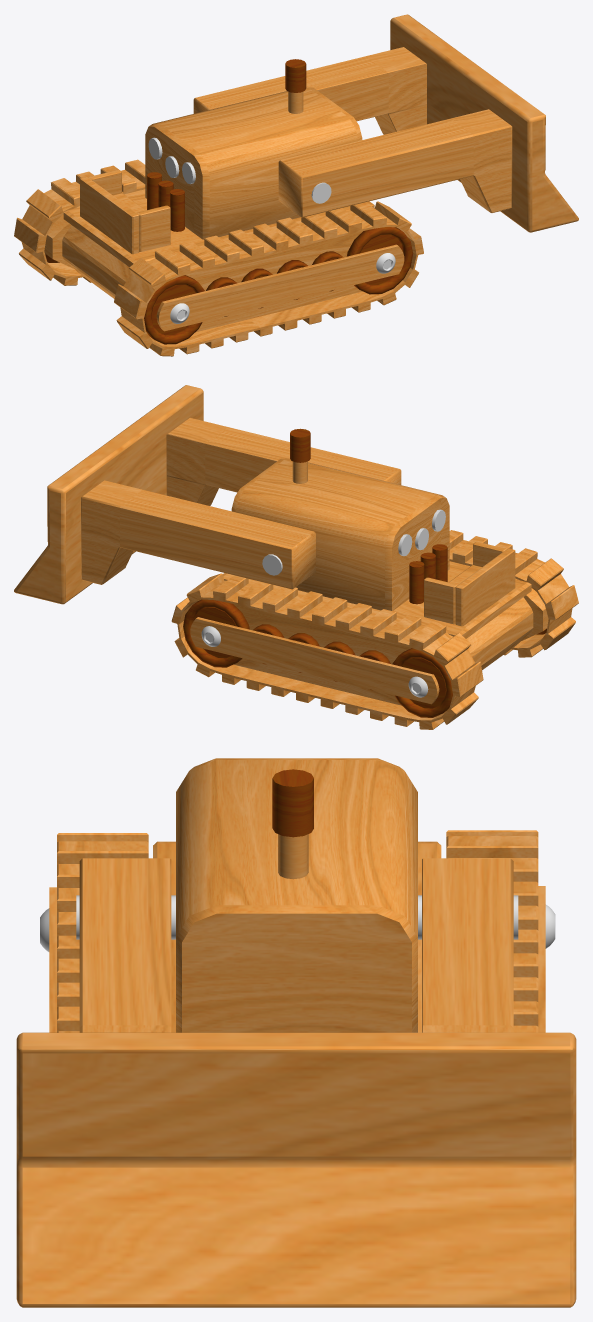
File: BullDozer.fbx
3 renders of one model, top to bottom at view 1: azimuth 30°, elevation 25°; view 2: azimuth 150°, elevation 25°; view 3: azimuth 270°, elevation 25°, orthographic. The views are drawn at different scales.
Visible parts, largest first — view 1: Bulldozer, Shovel, GreyBits; view 2: Bulldozer, Shovel, GreyBits; view 3: Shovel, Bulldozer, GreyBits.
Part boxes in pixels (<box>): Bulldozer: <box>14,59,423,356</box>; Shovel: <box>193,14,578,232</box>; GreyBits: <box>148,137,395,323</box>; Bulldozer: <box>171,428,578,729</box>; Shovel: <box>14,385,401,604</box>; GreyBits: <box>201,509,445,697</box>; Shovel: <box>16,858,576,1307</box>; Bulldozer: <box>49,758,545,1032</box>; GreyBits: <box>40,895,555,951</box>.
Bounding box in the file's own units: 21.97 × 9.97 × 12.2.
